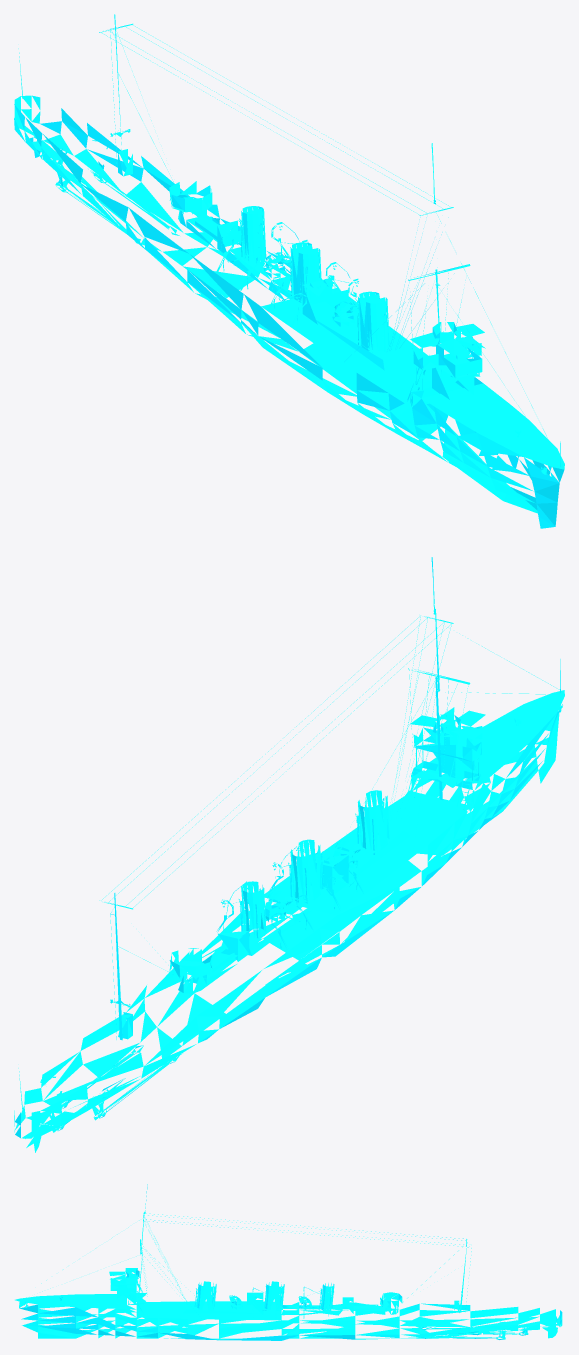
The model's file is PJSB799.glb.
The picture shows the model from 3 angles, top to bottom: view 1: azimuth 30°, elevation 25°; view 2: azimuth 150°, elevation 25°; view 3: azimuth 270°, elevation 25°; orthographic projection. The views are drawn at different scales.
Parts seen in each view (by area): view 1: hull; view 2: hull; view 3: hull.
Part boxes in pixels (x1,y1,x2,y2): hull: (14,14,564,528); hull: (14,557,564,1152); hull: (15,1184,562,1340).
Bounding box in the file's own units: 0.4841 × 1.73 × 5.59.
